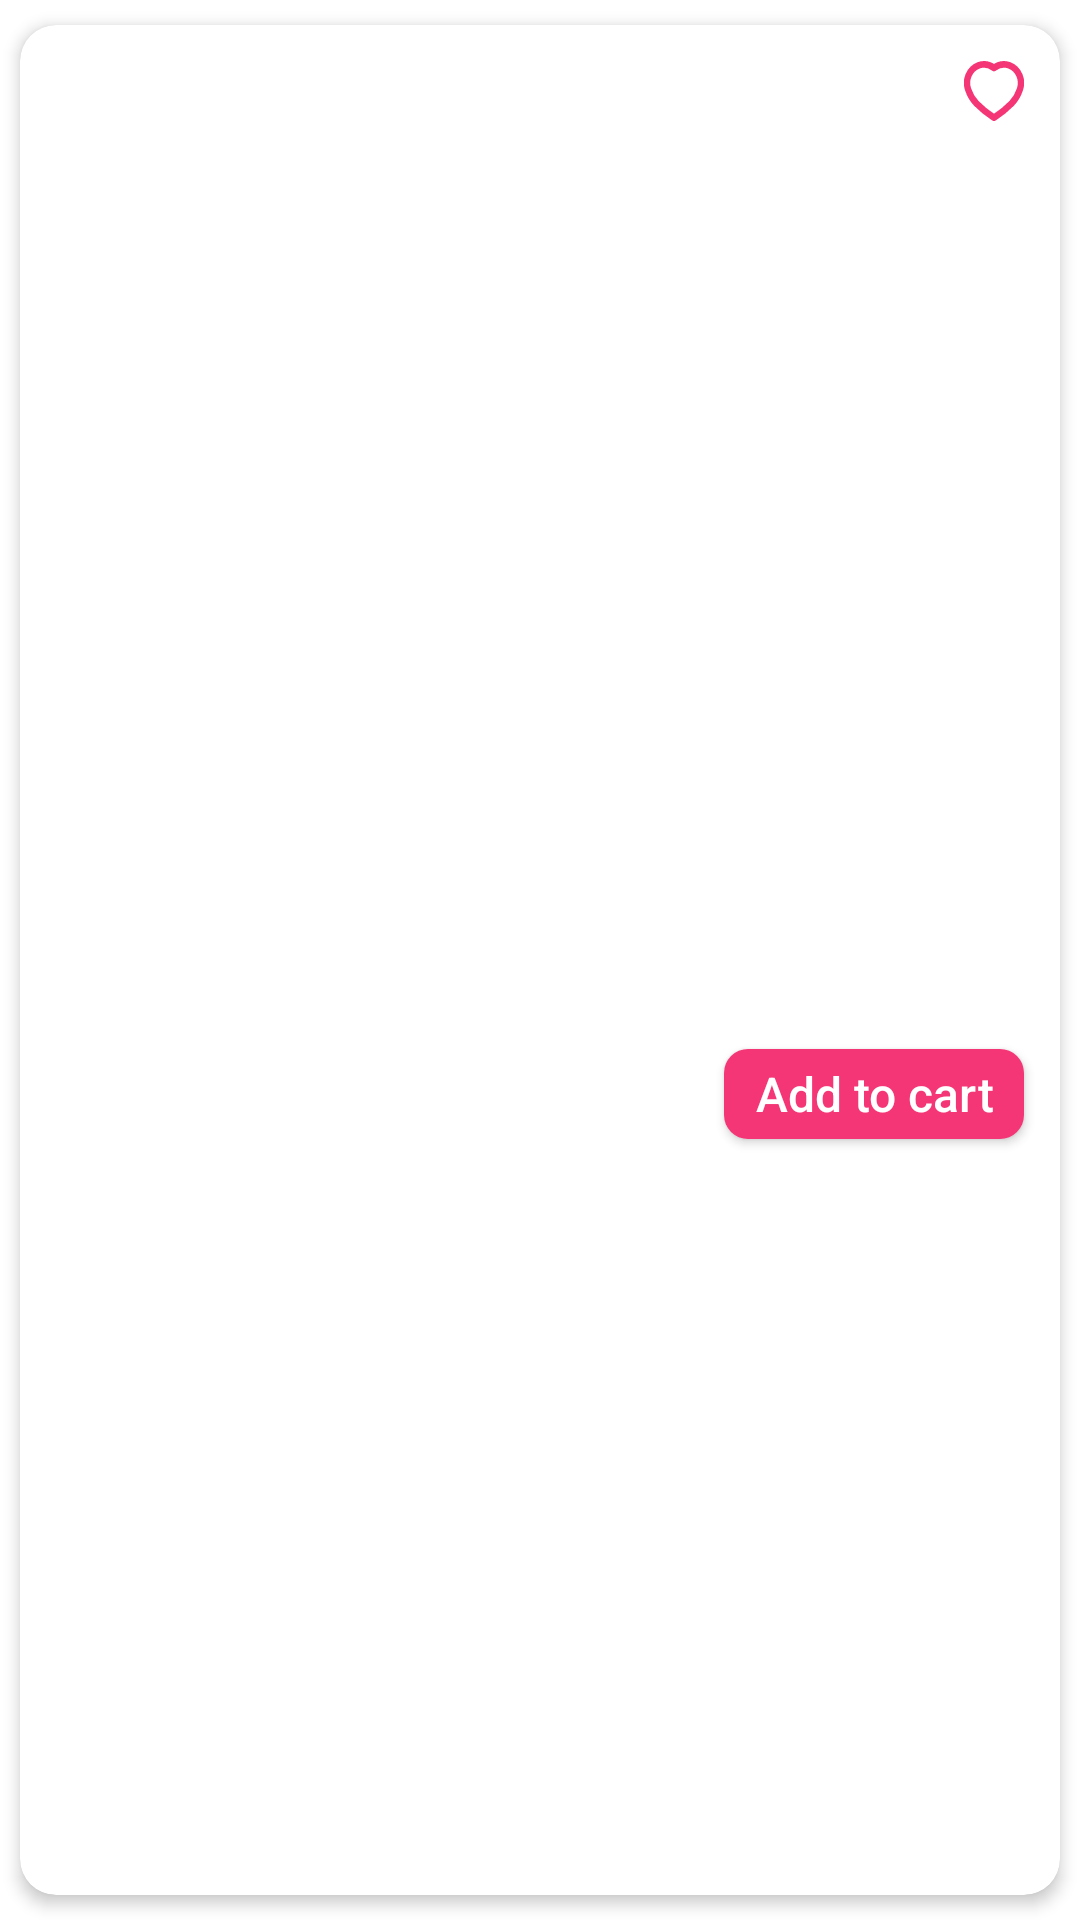

Icons on this 1080x1920 Android screen, each with the point to tap as (x=x, y=y):
favorite: (x=994, y=91)
